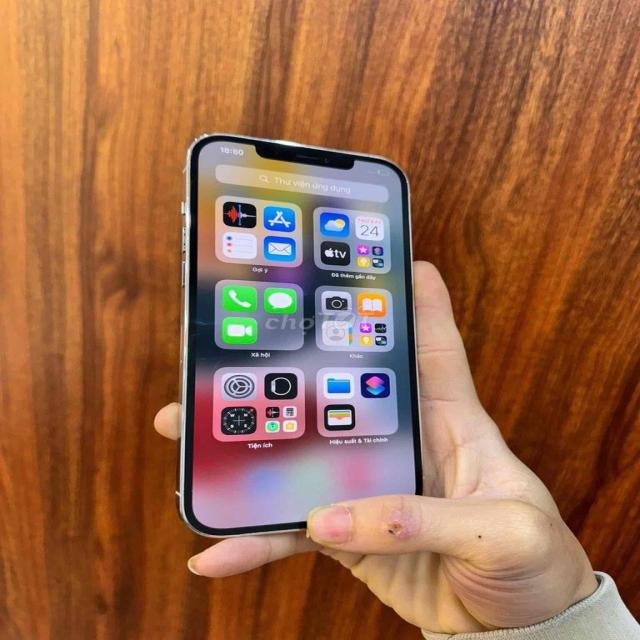gen_12_13: (182, 128, 429, 539)
